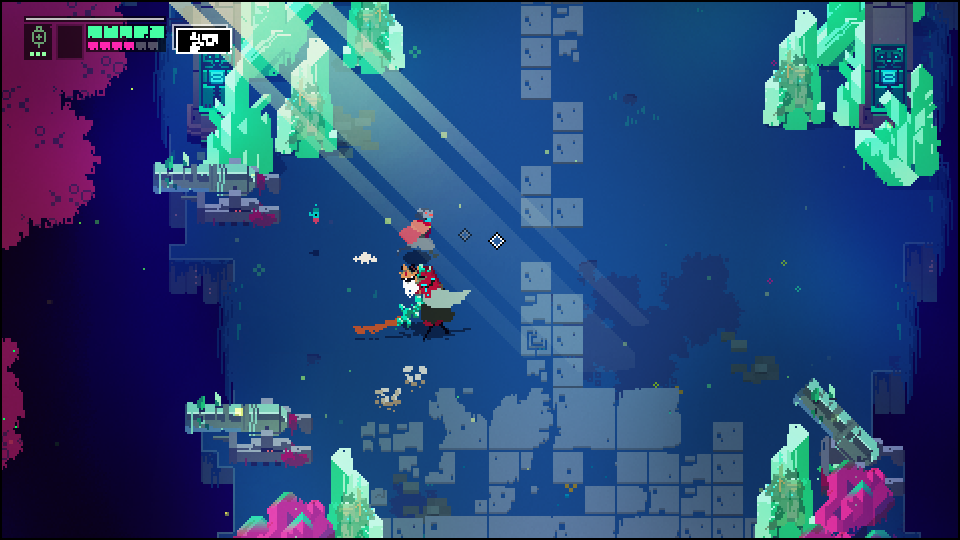hanged_man: (386, 259, 477, 346)
player: (400, 200, 439, 259)
